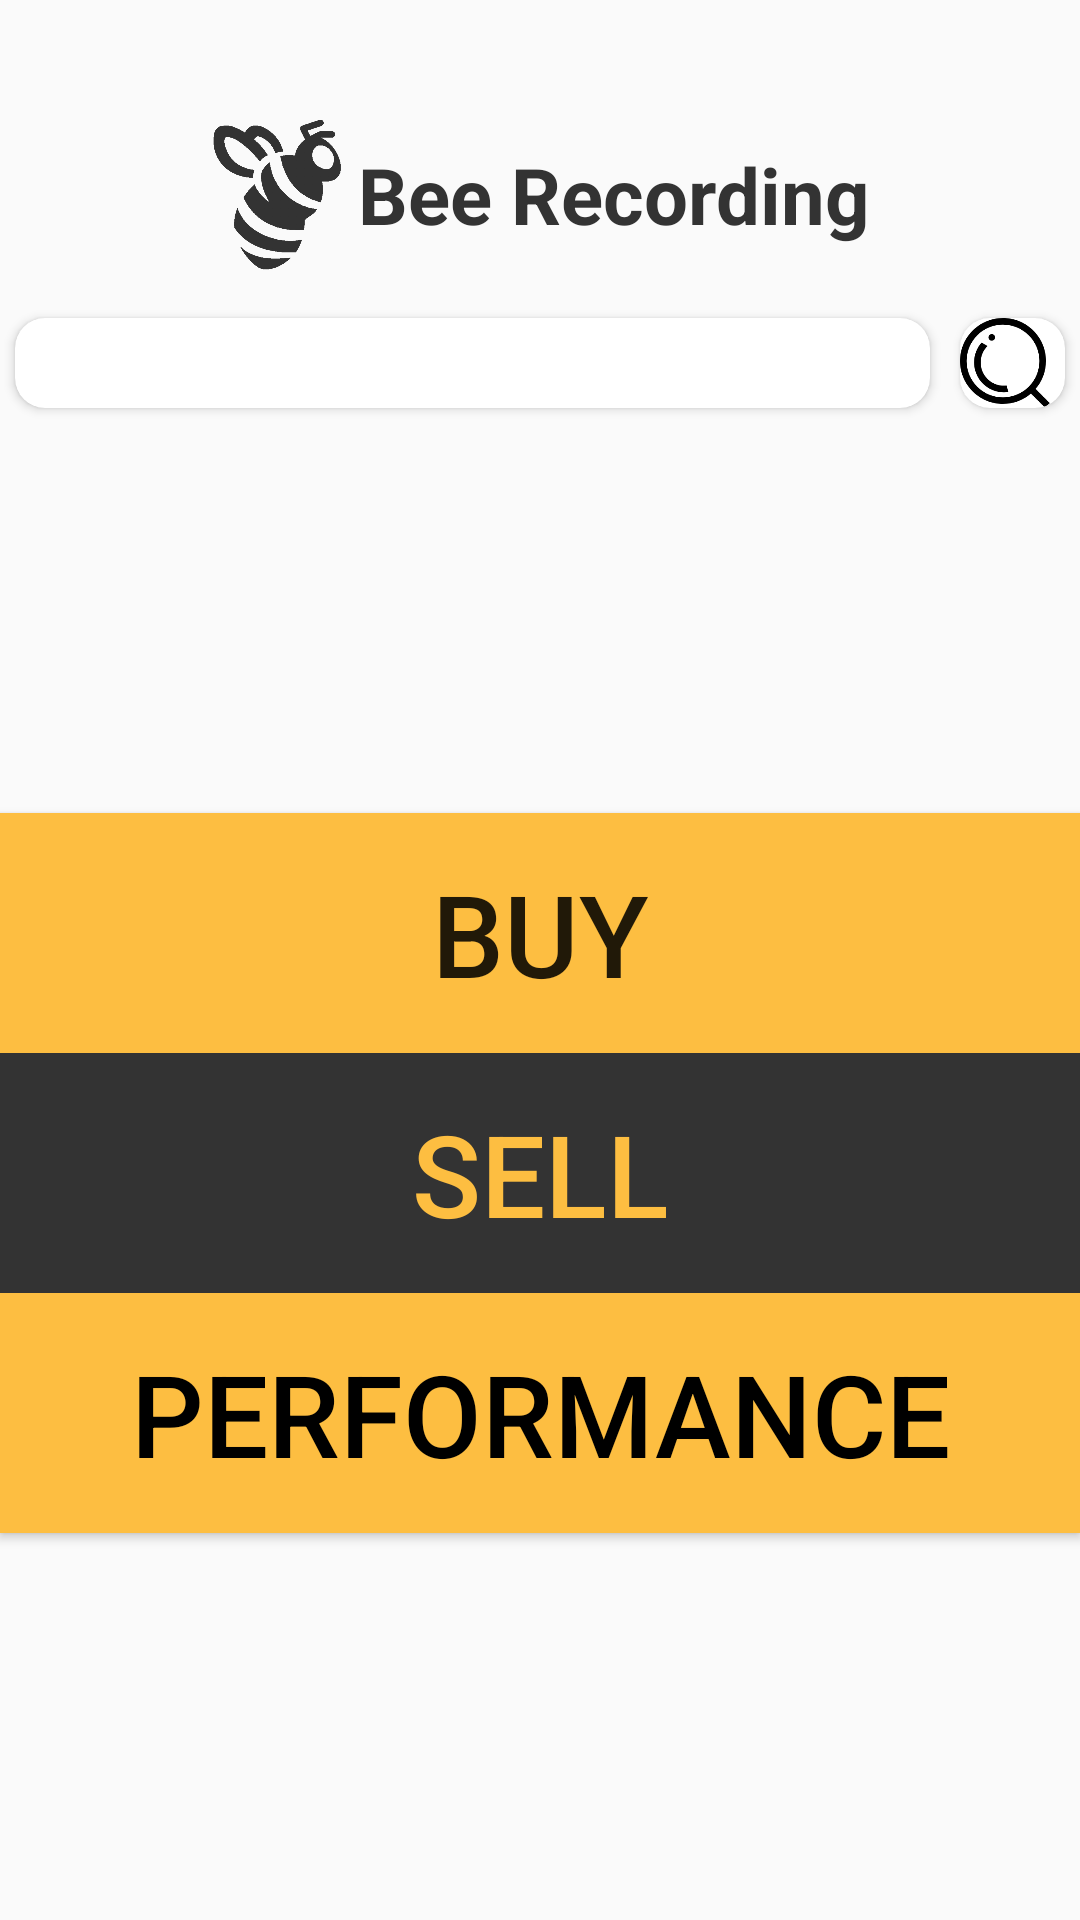

Icons on this 1080×1920 Android screen, each with the point to tap as (x=x, y=y):
search: (x=1005, y=363)
